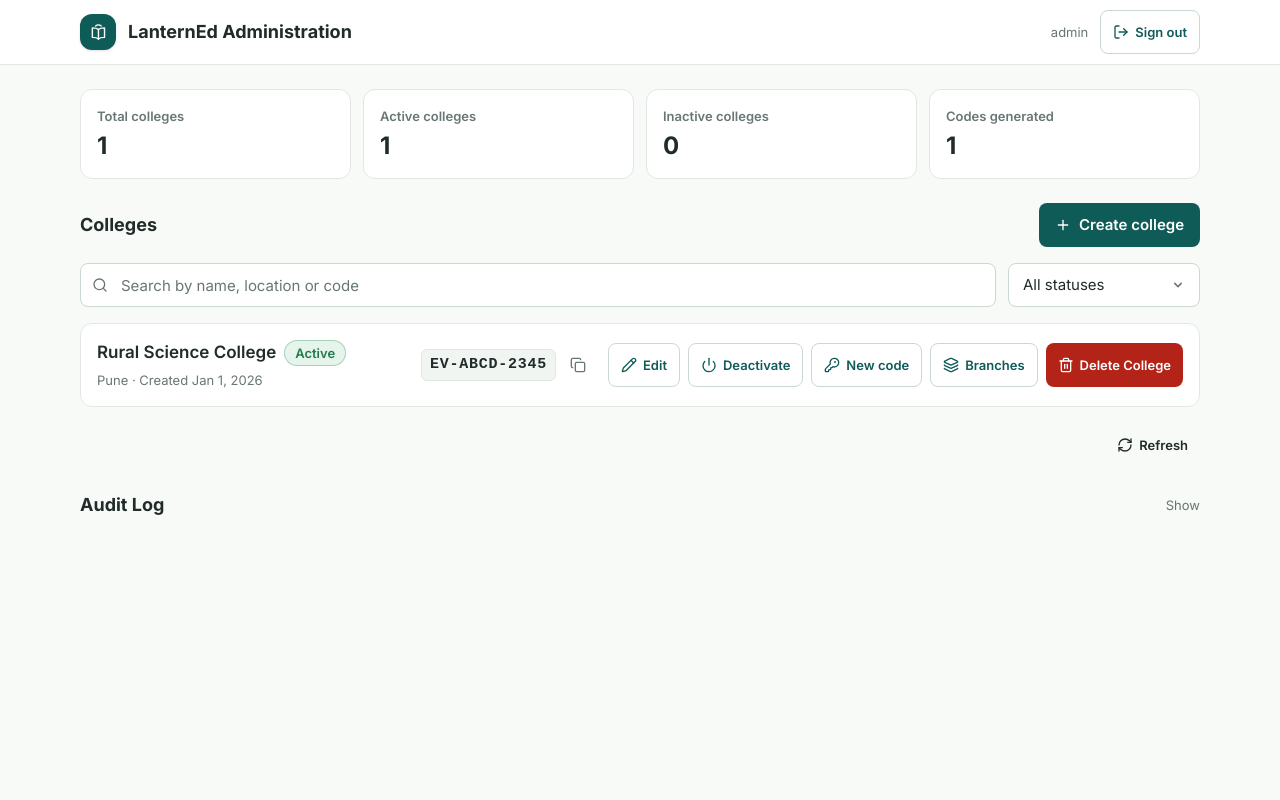
admin panel › returns to sign-in when the session expires mid-use
Expected: the heading "Rural Science College" is shown, [97,340,276,366]
Click the button "Refresh" at (1153,445), box [1105,423,1200,467]
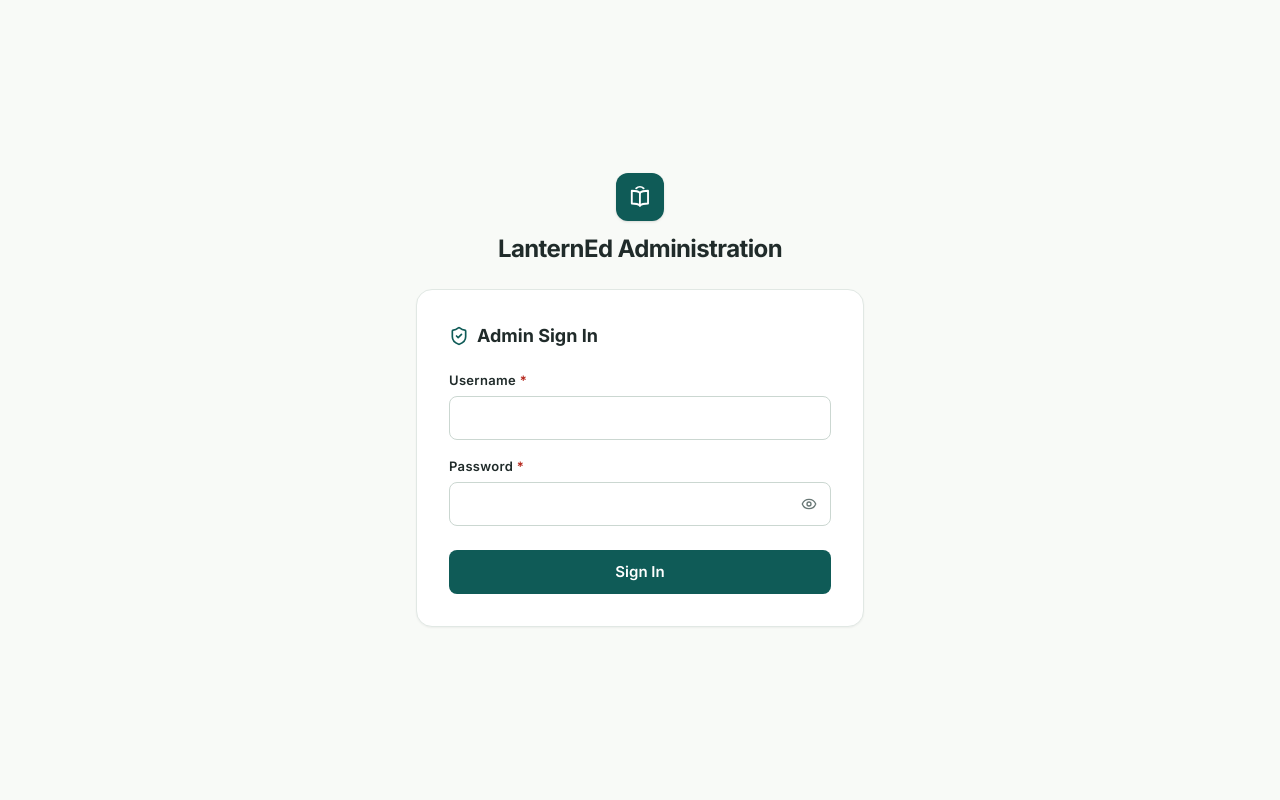
Now the button "Sign In" is shown, box [449,550,831,594]
